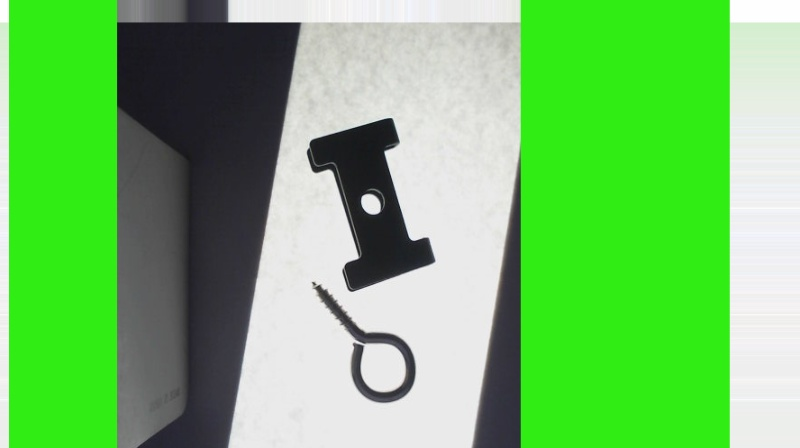O001: (310, 275, 417, 403)
O002: (304, 115, 436, 290)
